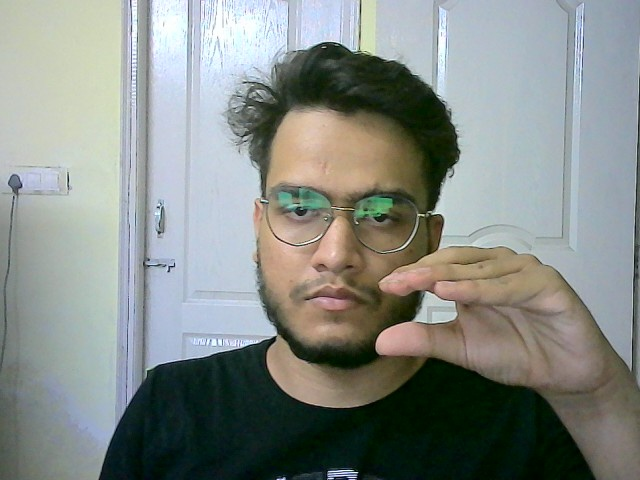No: (371, 243, 623, 395)
